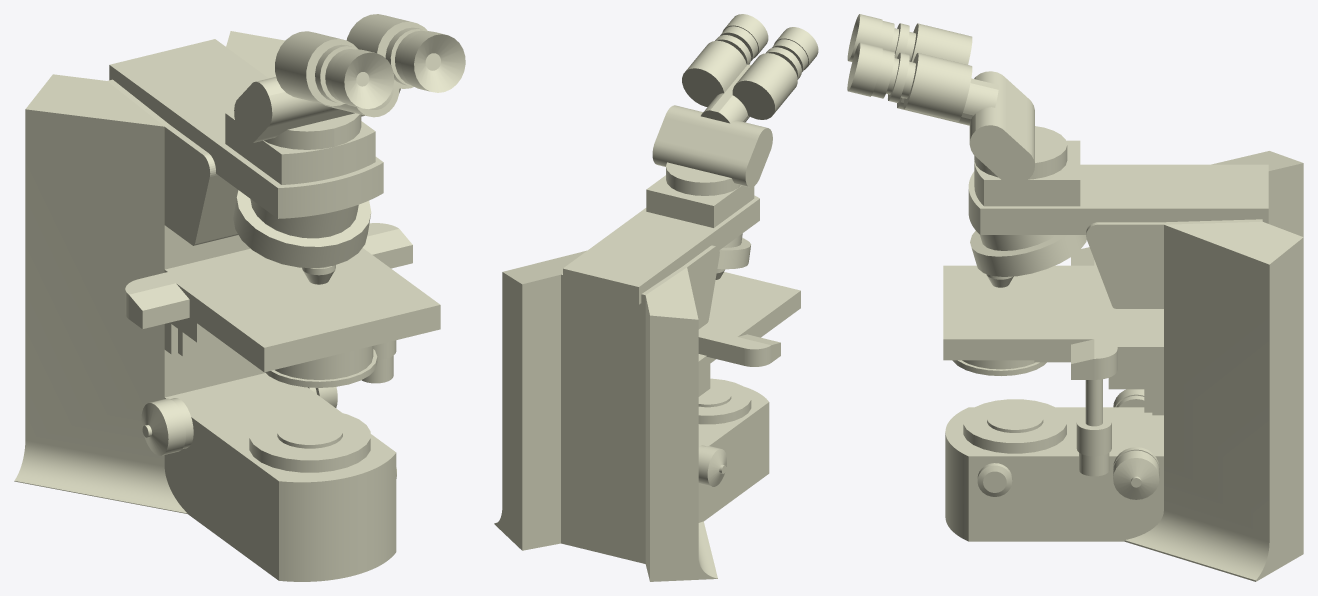
File: Olympus BX41 Microscope.dae
The picture shows the model from 3 angles, left to right: view 1: azimuth 30°, elevation 25°; view 2: azimuth 150°, elevation 25°; view 3: azimuth 270°, elevation 25°; orthographic projection. The views are drawn at different scales.
Visible parts, largest first — view 1: SketchUp (×3), group_7 (×3), group_0, group_3 (×5), group_1 (×2), group_5, group_4, group_2, group_13, group_9; view 2: SketchUp (×3), group_3 (×5), group_0, group_7, group_2, group_1 (×2), group_4, group_13, group_5; view 3: SketchUp (×4), group_7 (×5), group_0, group_3 (×4), group_4, group_1 (×2), group_2, group_5, group_12, group_8.
Part boxes in pixels (bbox=[...]): SketchUp (×3): bbox=[14, 31, 396, 581]; group_7 (×3): bbox=[125, 223, 440, 387]; group_0: bbox=[109, 39, 383, 218]; group_3 (×5): bbox=[275, 14, 465, 117]; group_1 (×2): bbox=[225, 111, 375, 184]; group_5: bbox=[233, 190, 371, 268]; group_4: bbox=[164, 125, 238, 245]; group_2: bbox=[234, 77, 400, 143]; group_13: bbox=[141, 398, 185, 455]; group_9: bbox=[164, 271, 188, 356]; SketchUp (×3): bbox=[494, 250, 769, 581]; group_3 (×5): bbox=[682, 14, 818, 123]; group_0: bbox=[563, 195, 759, 295]; group_7: bbox=[698, 272, 800, 366]; group_2: bbox=[652, 105, 772, 187]; group_1 (×2): bbox=[646, 162, 754, 227]; group_4: bbox=[683, 245, 719, 329]; group_13: bbox=[698, 446, 726, 486]; group_5: bbox=[717, 233, 750, 269]; SketchUp (×4): bbox=[945, 151, 1303, 581]; group_7 (×5): bbox=[943, 247, 1117, 476]; group_0: bbox=[968, 164, 1268, 234]; group_3 (×4): bbox=[847, 14, 998, 125]; group_4: bbox=[1086, 222, 1163, 308]; group_1 (×2): bbox=[974, 126, 1080, 206]; group_2: bbox=[969, 71, 1034, 184]; group_5: bbox=[970, 230, 1086, 276]; group_12: bbox=[1113, 450, 1159, 499]; group_8: bbox=[1144, 348, 1163, 415].
Bounding box in the file's own units: 10.41 × 15.47 × 18.22.
